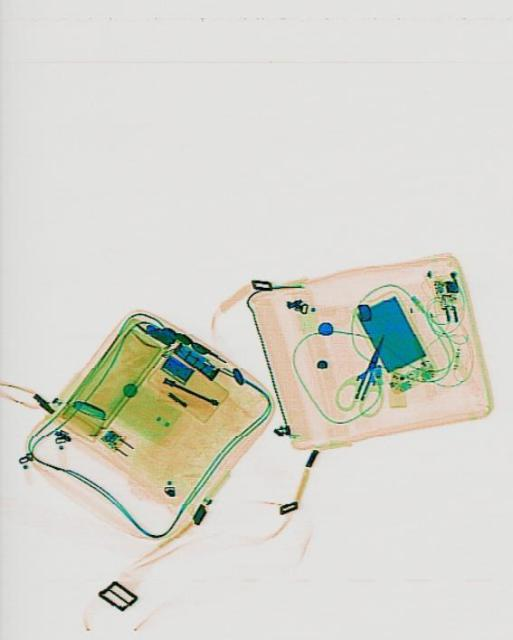Knife: (348, 332, 389, 404)
